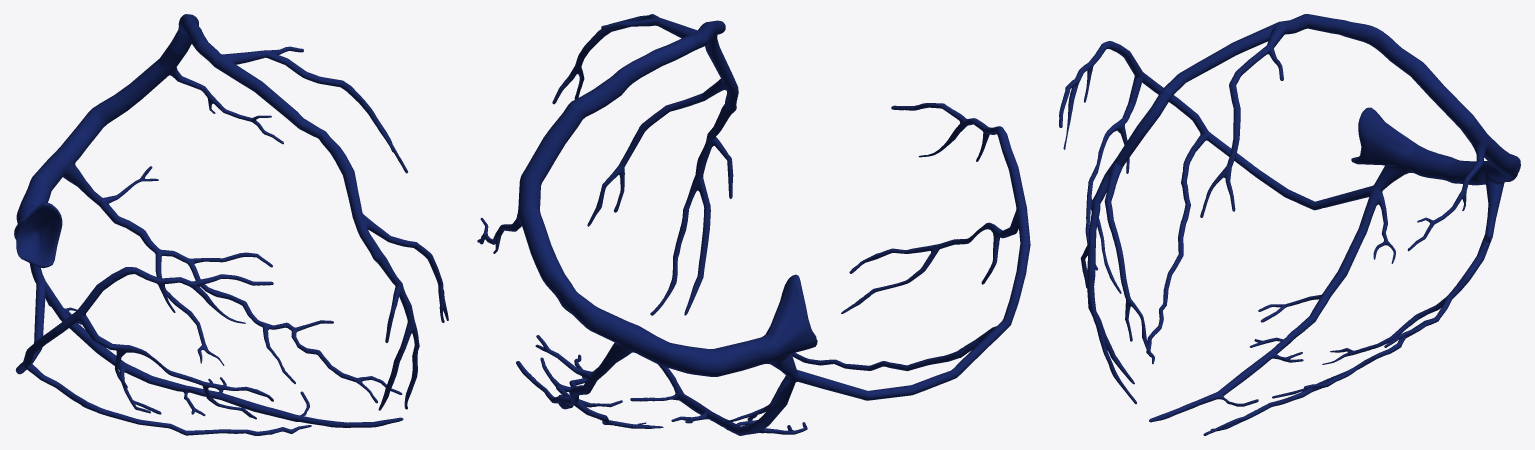
The model's file is viens.glb.
The picture shows the model from 3 angles, left to right: view 1: azimuth 30°, elevation 25°; view 2: azimuth 150°, elevation 25°; view 3: azimuth 270°, elevation 25°; orthographic projection. The views are drawn at different scales.
Visible parts, largest first — view 1: Veins; view 2: Veins; view 3: Veins.
Part boxes in pixels (<box>): Veins: <box>14,14,448,435</box>; Veins: <box>477,14,1030,435</box>; Veins: <box>1059,14,1520,435</box>.
Size of the model in its own units: 2.3 by 2 by 2.33.
